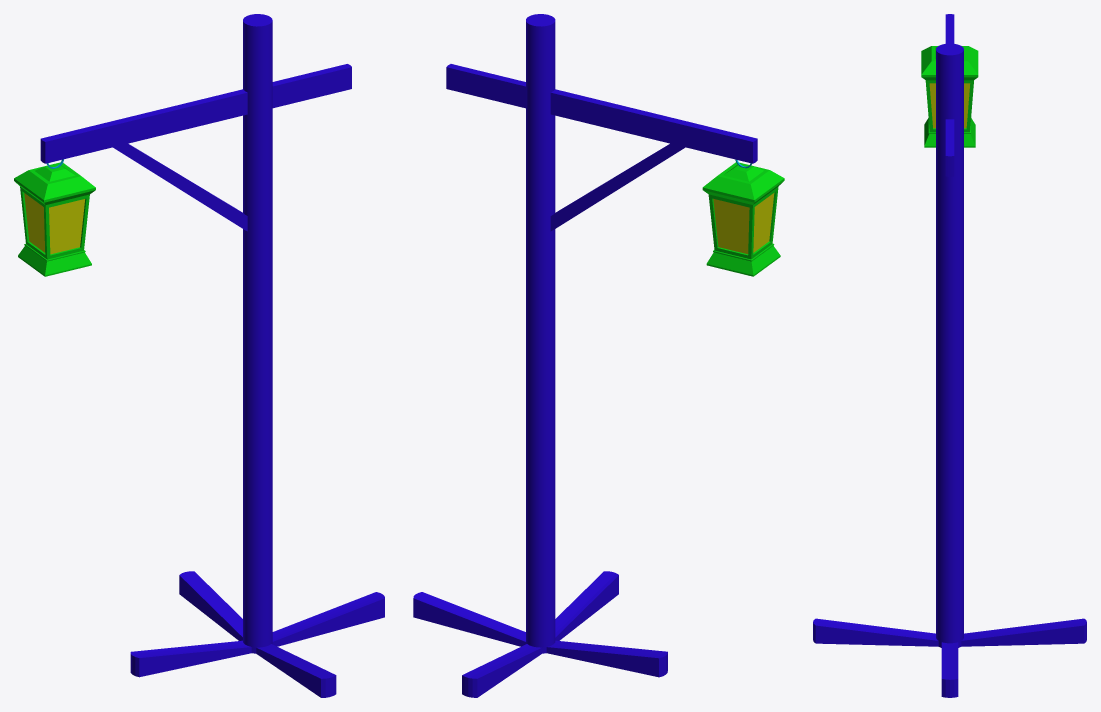
The model's file is Lantern.fbx.
3 renders of one model, left to right at view 1: azimuth 30°, elevation 25°; view 2: azimuth 150°, elevation 25°; view 3: azimuth 270°, elevation 25°, orthographic. The views are drawn at different scales.
Parts seen in each view (by area): view 1: Box001; view 2: Box001; view 3: Box001.
Part boxes in pixels (left/top/right/bottom): Box001: left=14, top=14, right=384, bottom=697; Box001: left=413, top=14, right=784, bottom=697; Box001: left=813, top=14, right=1086, bottom=697.
Size of the model in its own units: 271 by 458 by 192.
